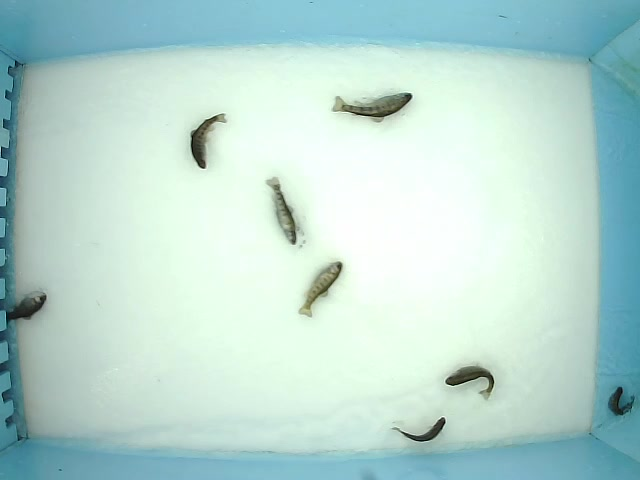fish: (297, 260, 344, 319), (330, 91, 414, 123), (264, 175, 300, 246), (189, 113, 229, 171), (444, 362, 496, 403), (389, 415, 446, 443), (603, 383, 638, 424)
